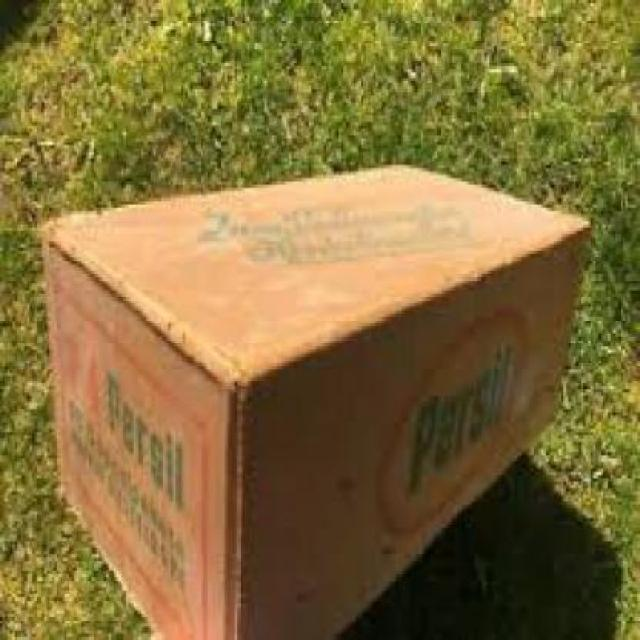box: (40, 161, 589, 637)
